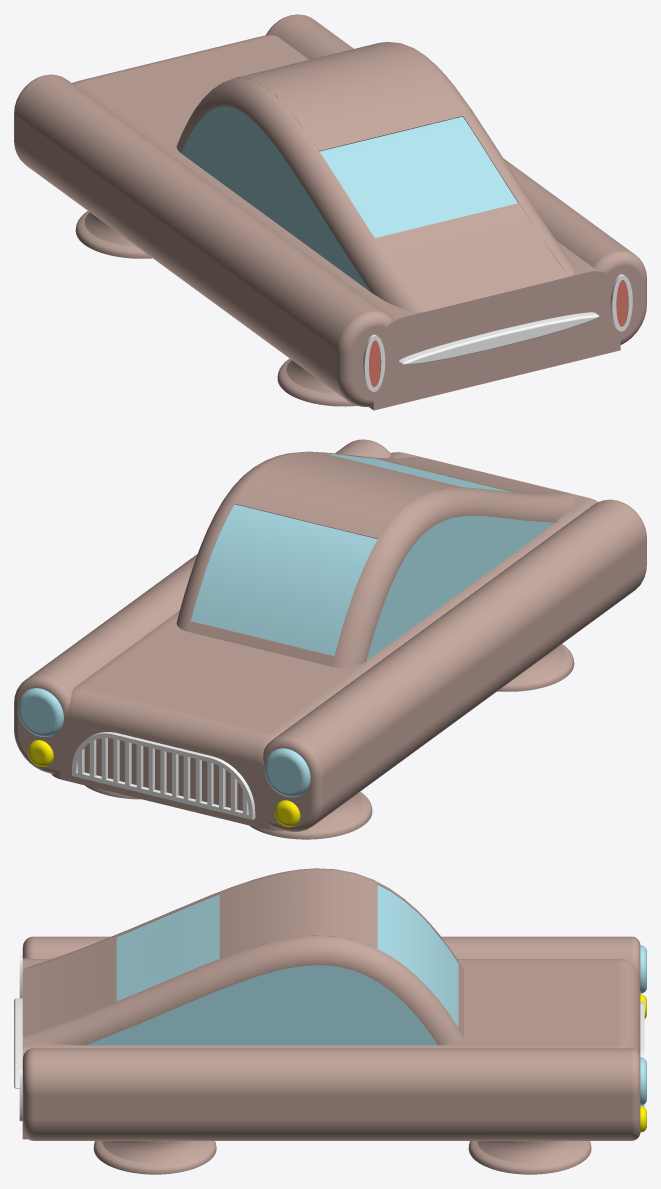
Rendered from placeholder-auto.fbx.
3 renders of one model, top to bottom at view 1: azimuth 30°, elevation 25°; view 2: azimuth 150°, elevation 25°; view 3: azimuth 270°, elevation 25°, orthographic. The views are drawn at different scales.
Visible parts, largest first — view 1: Body3, Body1, Body11, Body21, Body20, Body33, Body13, Body34, Body18, Body27, Body23, Body4 (+1 smaller); view 2: Body3, Body1, Body11, Body21, Body33, Body13, Body19, Body34, Body23, Body20, Body5, Body15 (+2 smaller); view 3: Body13, Body11, Body1, Body34, Body21, Body20, Body3, Body28, Body29, Body33, Body18.
Part boxes in pixels (left/top/right/bottom): Body3: left=14, top=74, right=393, bottom=406; Body1: left=72, top=34, right=620, bottom=410; Body11: left=181, top=106, right=517, bottom=297; Body21: left=236, top=42, right=462, bottom=151; Body20: left=375, top=203, right=568, bottom=311; Body33: left=176, top=77, right=424, bottom=312; Body13: left=266, top=14, right=646, bottom=344; Body34: left=385, top=42, right=574, bottom=276; Body18: left=398, top=312, right=599, bottom=365; Body27: left=277, top=358, right=357, bottom=406; Body23: left=75, top=211, right=152, bottom=258; Body4: left=363, top=334, right=385, bottom=391; Body3: left=263, top=499, right=646, bottom=831; Body1: left=51, top=452, right=598, bottom=831; Body11: left=191, top=453, right=563, bottom=661; Body21: left=234, top=452, right=461, bottom=539; Body33: left=331, top=487, right=574, bottom=667; Body13: left=14, top=439, right=391, bottom=773; Body19: left=72, top=732, right=255, bottom=819; Body34: left=176, top=451, right=424, bottom=631; Body23: left=249, top=791, right=372, bottom=839; Body20: left=374, top=458, right=567, bottom=494; Body5: left=264, top=748, right=310, bottom=797; Body15: left=17, top=688, right=63, bottom=736; Body13: left=22, top=1048, right=640, bottom=1140; Body11: left=86, top=885, right=458, bottom=1045; Body1: left=22, top=958, right=640, bottom=1139; Body34: left=23, top=935, right=463, bottom=1045; Body21: left=219, top=870, right=377, bottom=958; Body20: left=22, top=936, right=116, bottom=1035; Body3: left=22, top=936, right=640, bottom=977; Body28: left=468, top=1141, right=591, bottom=1174; Body29: left=93, top=1141, right=216, bottom=1174; Body33: left=23, top=868, right=463, bottom=970; Body18: left=14, top=998, right=22, bottom=1088.
Size of the model in its own units: 333 by 231 by 636.
